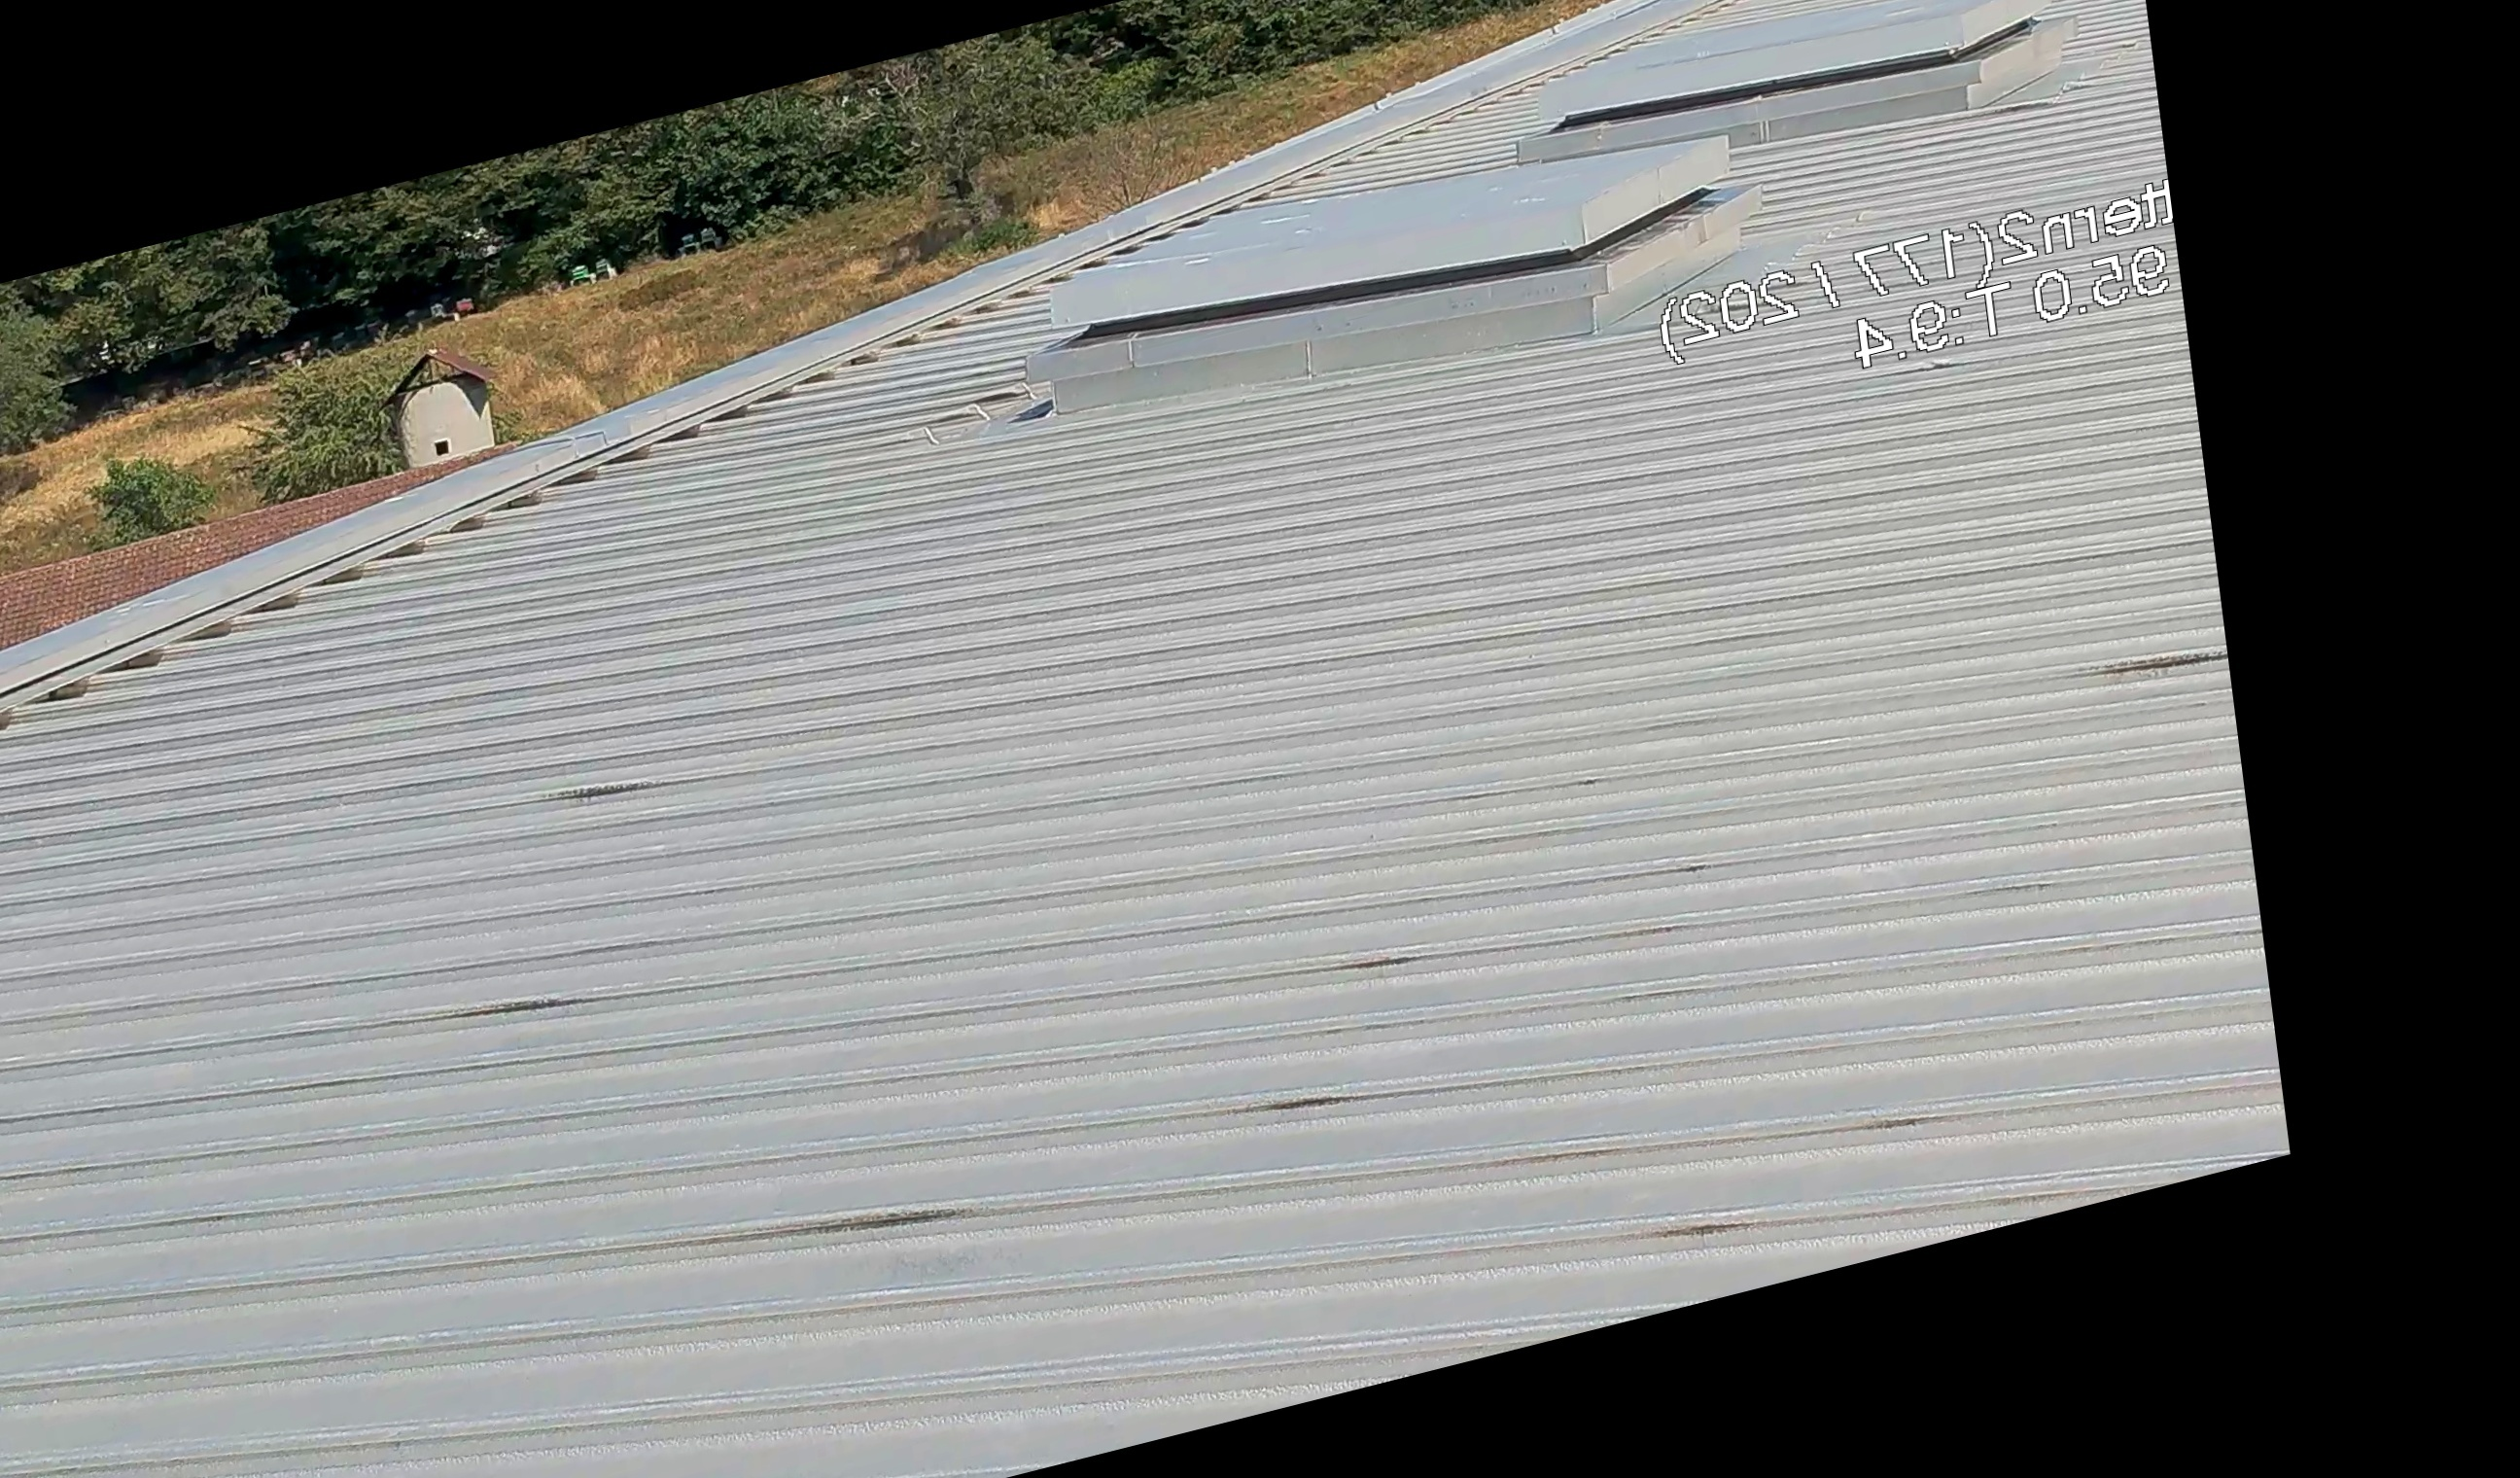Other: (359, 311, 506, 498)
